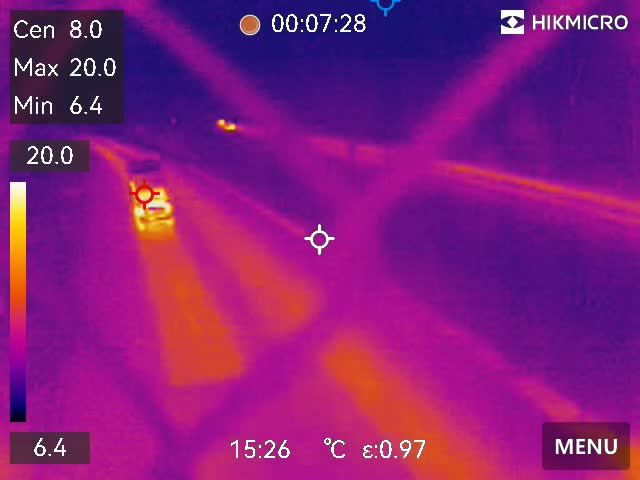vehicle: (127, 167, 176, 228)
